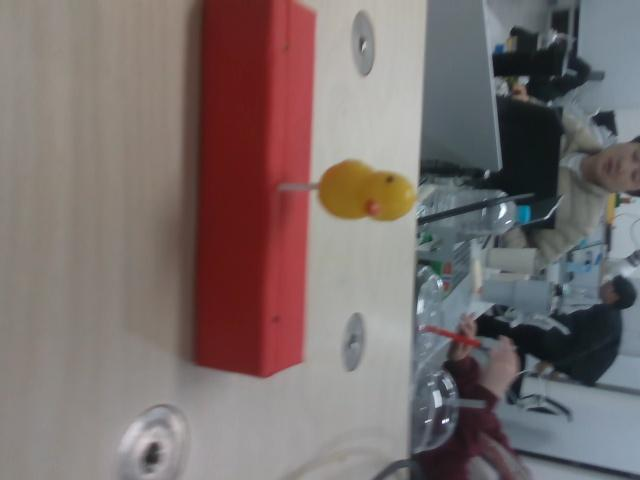w_duck: (318, 158, 414, 223)
